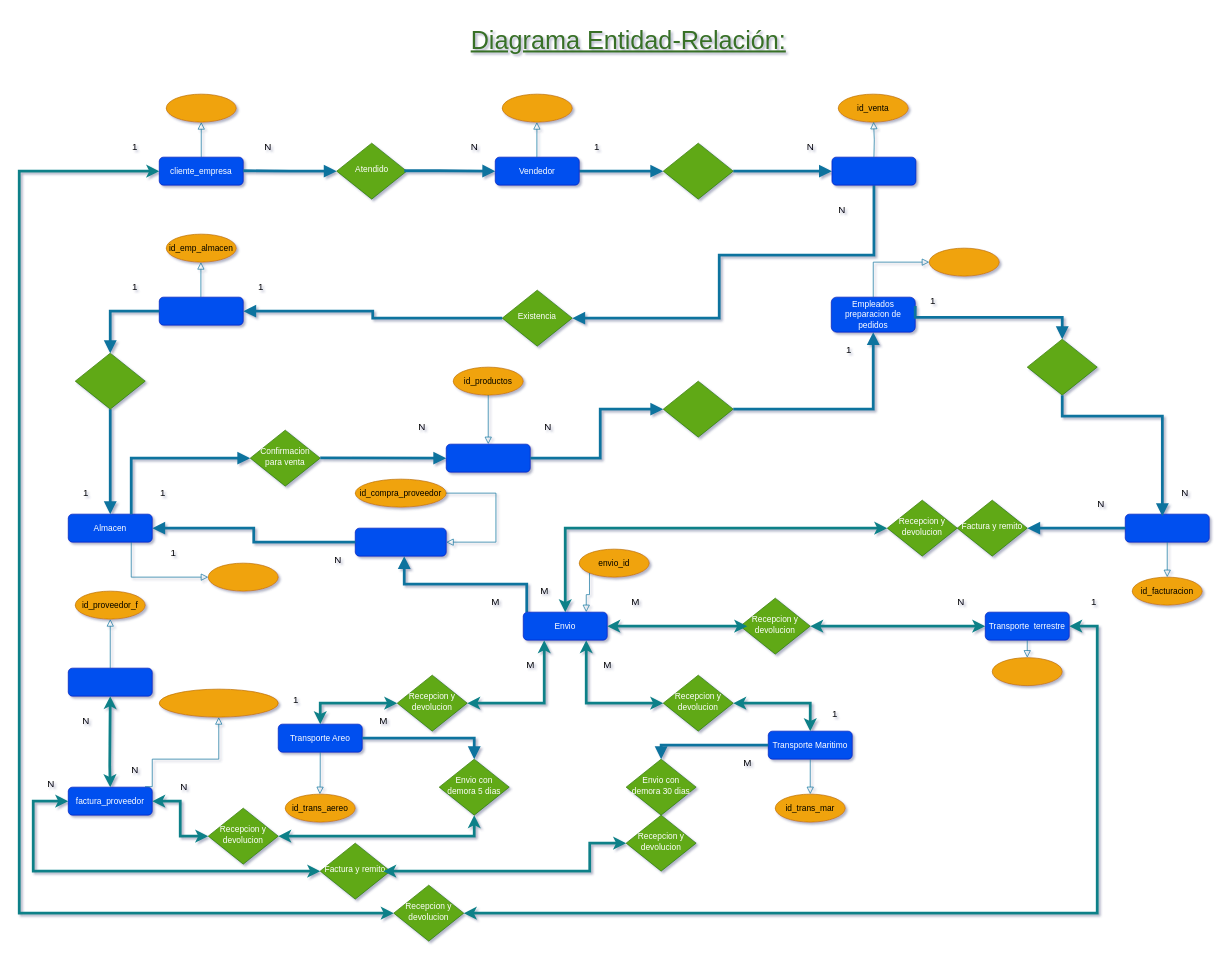
This 1226x958 diagram has some shape labels left out. Here are the shapes that lost their labels. From the top down, the box of each, then its label:
(166, 93, 236, 122): id_cliente
(502, 93, 572, 122): id_vendedor
(663, 142, 733, 199): Propuesta
(831, 156, 916, 185): Venta
(929, 247, 999, 276): id_emp_prepa
(159, 296, 243, 325): Empleados almacen
(75, 352, 145, 409): Check
(1027, 338, 1097, 395): Listo para facturar
(663, 380, 733, 437): Preparacion pedido
(446, 443, 530, 472): Productos
(355, 527, 446, 556): Compras_a_proveedor
(1125, 513, 1209, 542): Facturacion venta
(208, 562, 278, 591): id_almacen
(68, 667, 152, 696): Poveedores Fabricantes
(992, 657, 1062, 686): id_trans_terrestre
(159, 688, 278, 717): id_facturacion_proveedor
